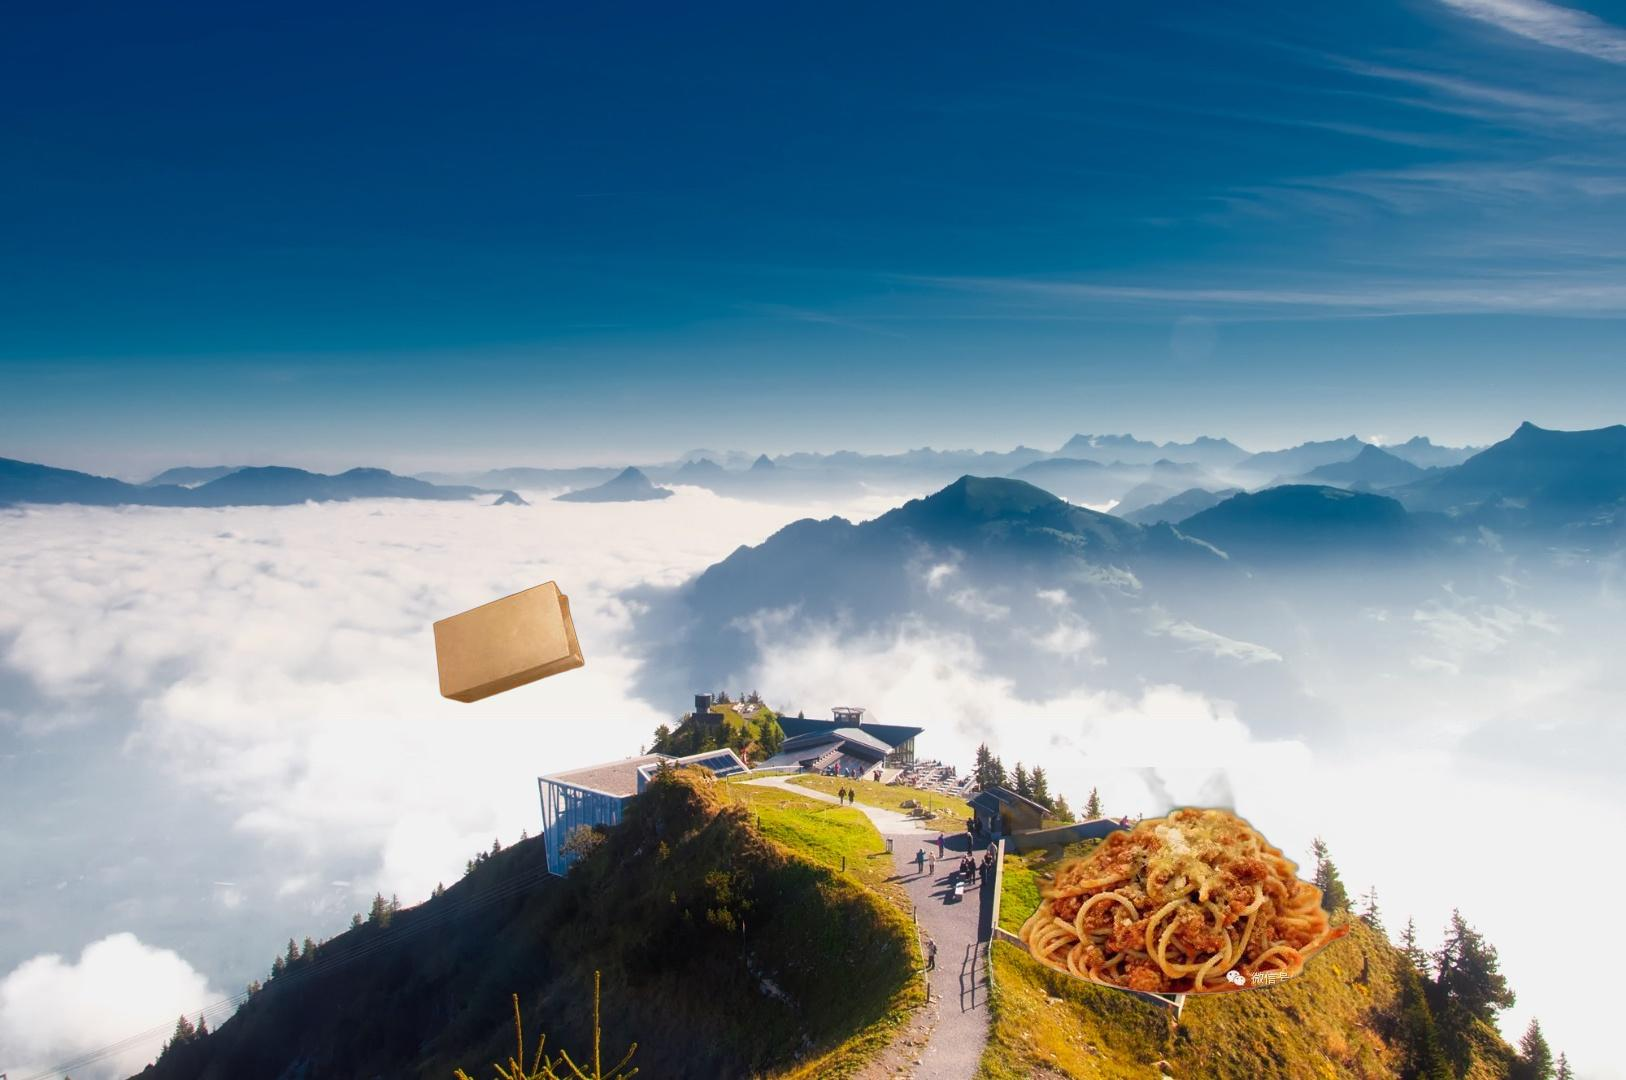biological: (999, 767, 1349, 997)
paper-bag: (432, 579, 586, 704)
